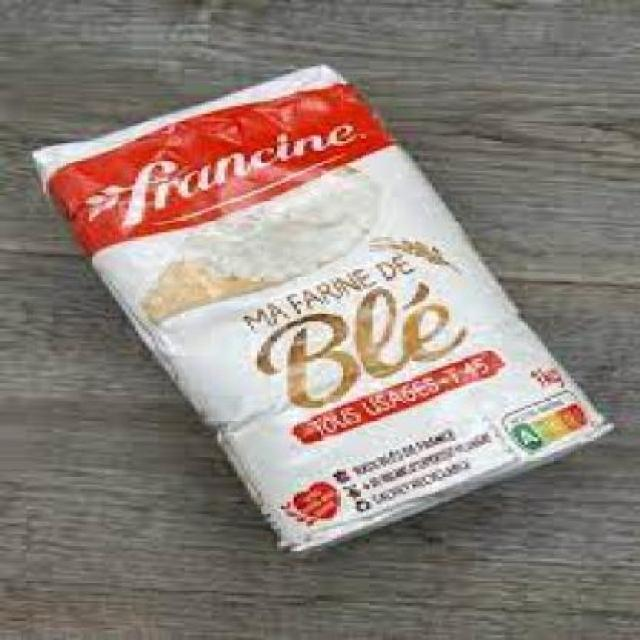gunny_bag: (22, 63, 622, 563)
